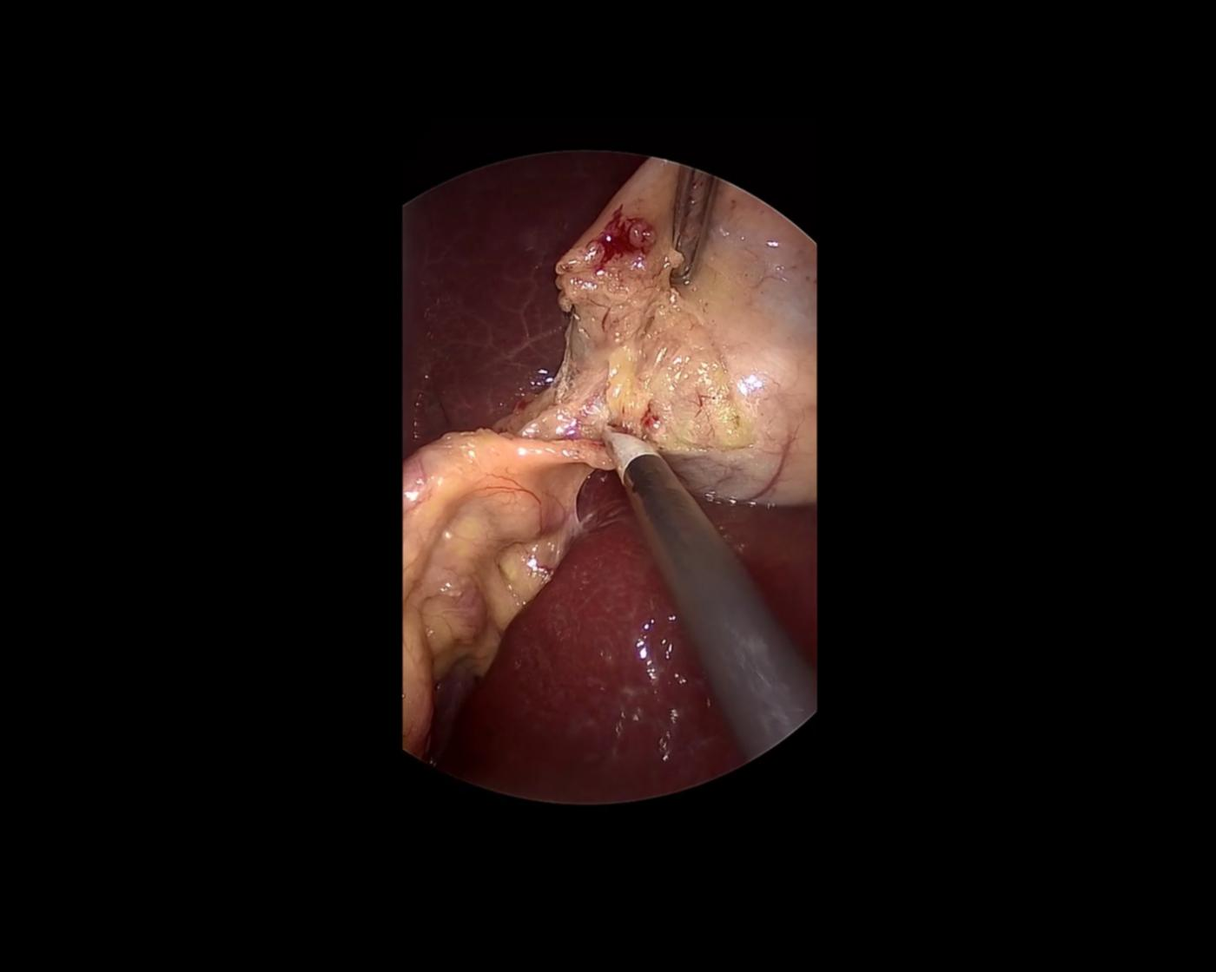Cautery: (584, 394, 836, 766)
Forceps: (658, 166, 717, 288)
Gallbladder: (552, 156, 816, 506)
Liver: (433, 448, 843, 848), (400, 151, 642, 459)
